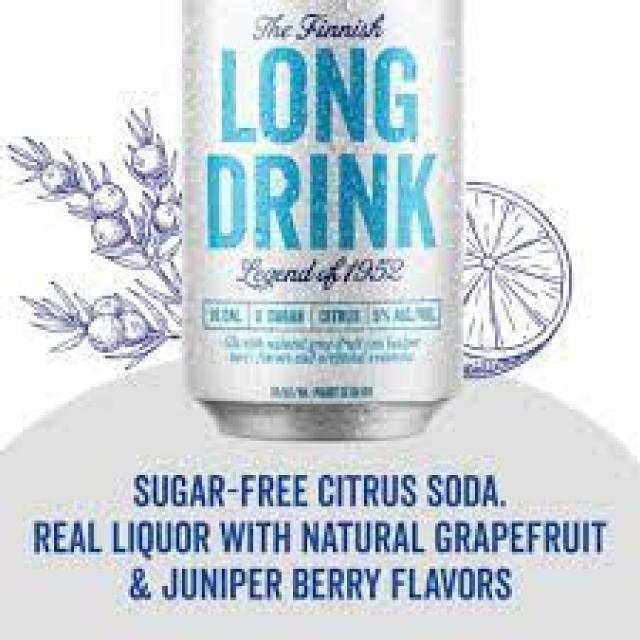Cans: (174, 3, 481, 441)
